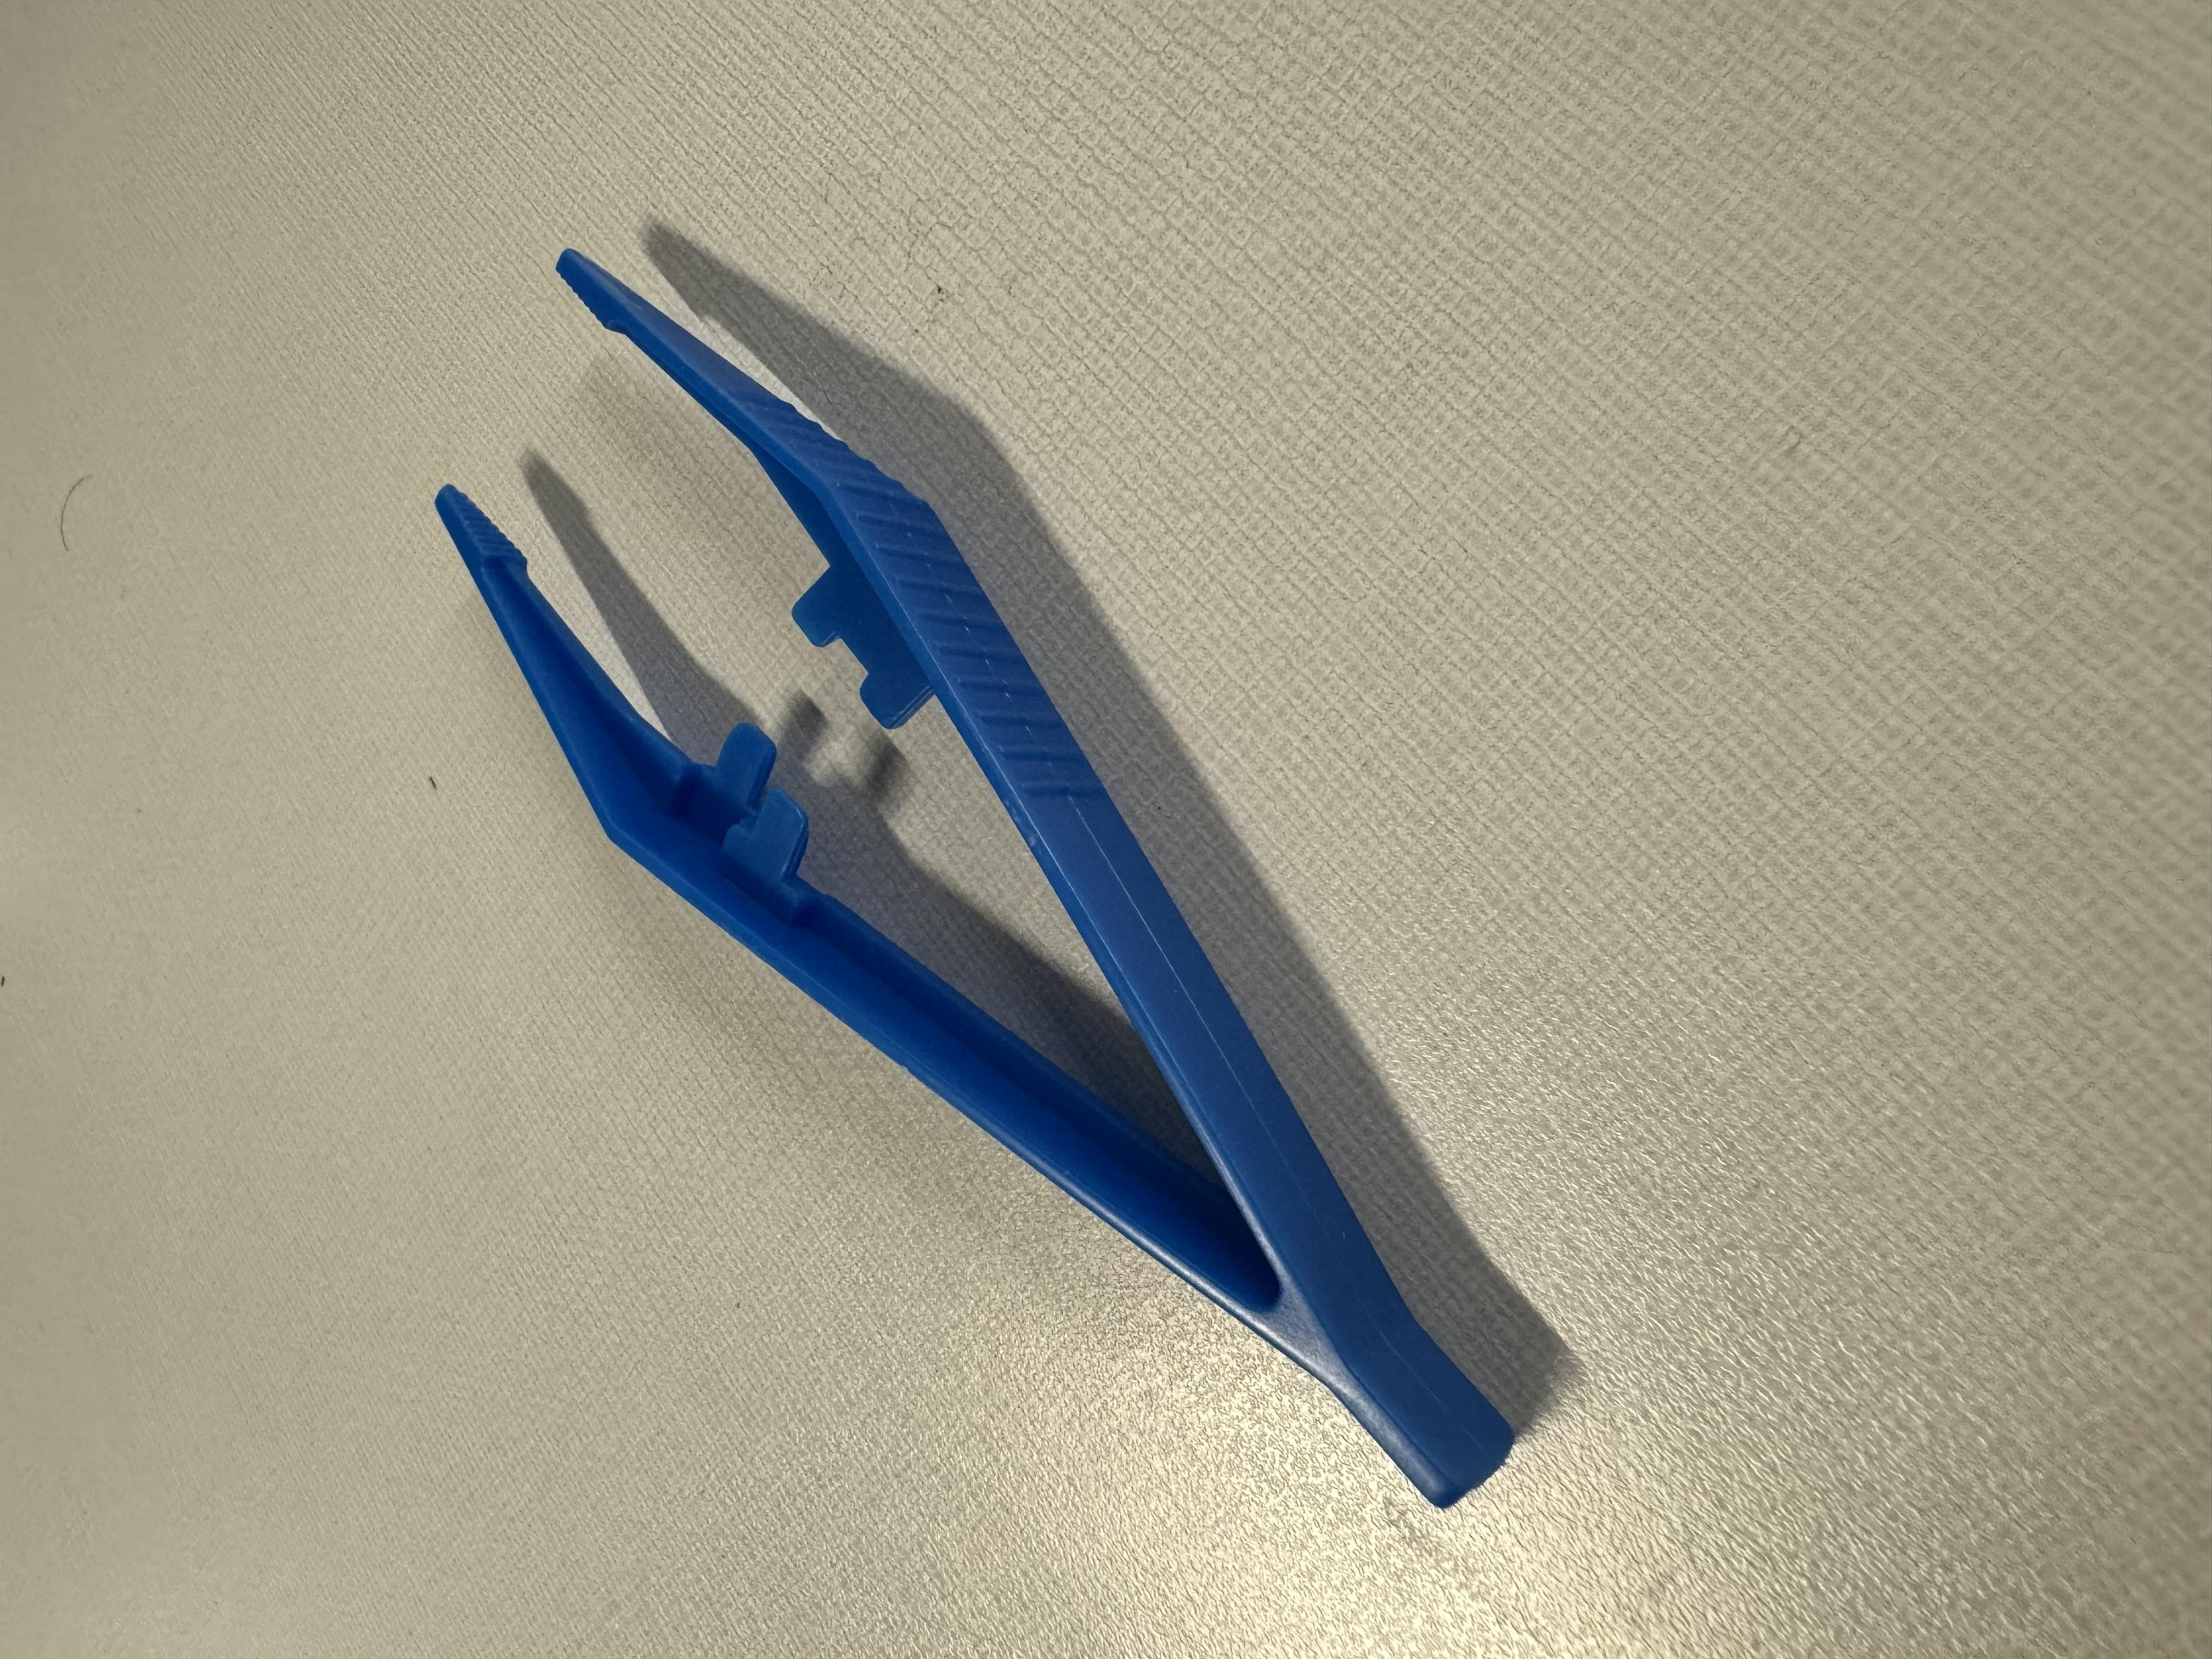tweezers: (183, 253, 2026, 1169)
